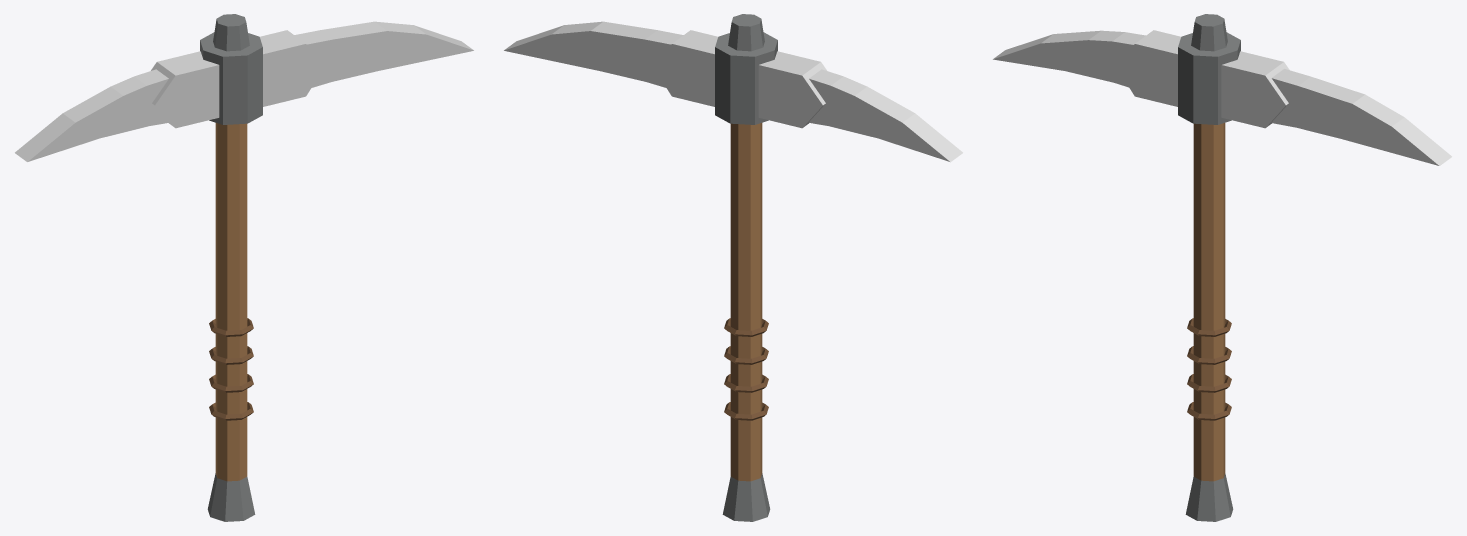
The model's file is t1_pickaxe.glb.
3 views of the same model, side by side, from view 1: azimuth 30°, elevation 25°; view 2: azimuth 150°, elevation 25°; view 3: azimuth 330°, elevation 25° (orthographic).
Visible parts, largest first — view 1: WoodHandle, HeadCore, RightPickHead, LeftPickHead, HeadSocket, BottomPommel, TopCap; view 2: WoodHandle, HeadCore, RightPickHead, LeftPickHead, HeadSocket, BottomPommel, TopCap; view 3: WoodHandle, RightPickHead, HeadCore, LeftPickHead, HeadSocket, BottomPommel, TopCap.
Part boxes in pixels (x1,y1,x2,y2): WoodHandle: [215, 123, 247, 481]; HeadCore: [151, 30, 326, 128]; RightPickHead: [294, 21, 473, 87]; LeftPickHead: [15, 69, 168, 161]; HeadSocket: [200, 32, 262, 124]; BottomPommel: [207, 473, 255, 521]; TopCap: [213, 14, 249, 51]; WoodHandle: [730, 123, 762, 481]; HeadCore: [651, 30, 826, 128]; RightPickHead: [504, 21, 683, 87]; LeftPickHead: [809, 69, 962, 161]; HeadSocket: [715, 32, 777, 124]; BottomPommel: [722, 473, 770, 521]; TopCap: [728, 14, 764, 51]; WoodHandle: [1193, 123, 1225, 481]; RightPickHead: [1271, 69, 1451, 165]; HeadCore: [1114, 30, 1289, 128]; LeftPickHead: [993, 30, 1145, 87]; HeadSocket: [1178, 32, 1240, 124]; BottomPommel: [1185, 473, 1233, 521]; TopCap: [1191, 14, 1227, 51].
Bounding box in the file's own units: 1.51 × 1.59 × 0.19.
